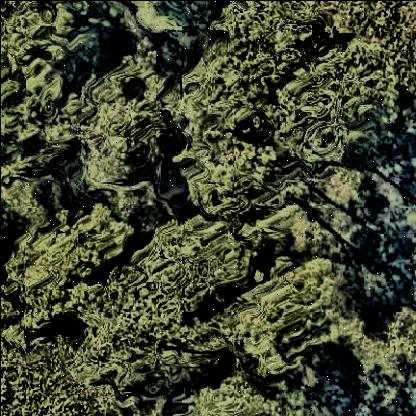tree-top: (221, 257, 359, 377), (97, 223, 250, 331), (2, 212, 132, 328), (69, 55, 173, 199), (281, 47, 399, 167), (181, 35, 282, 149), (21, 327, 123, 416), (179, 140, 277, 220), (347, 304, 416, 378), (175, 377, 292, 416), (1, 1, 66, 67)
